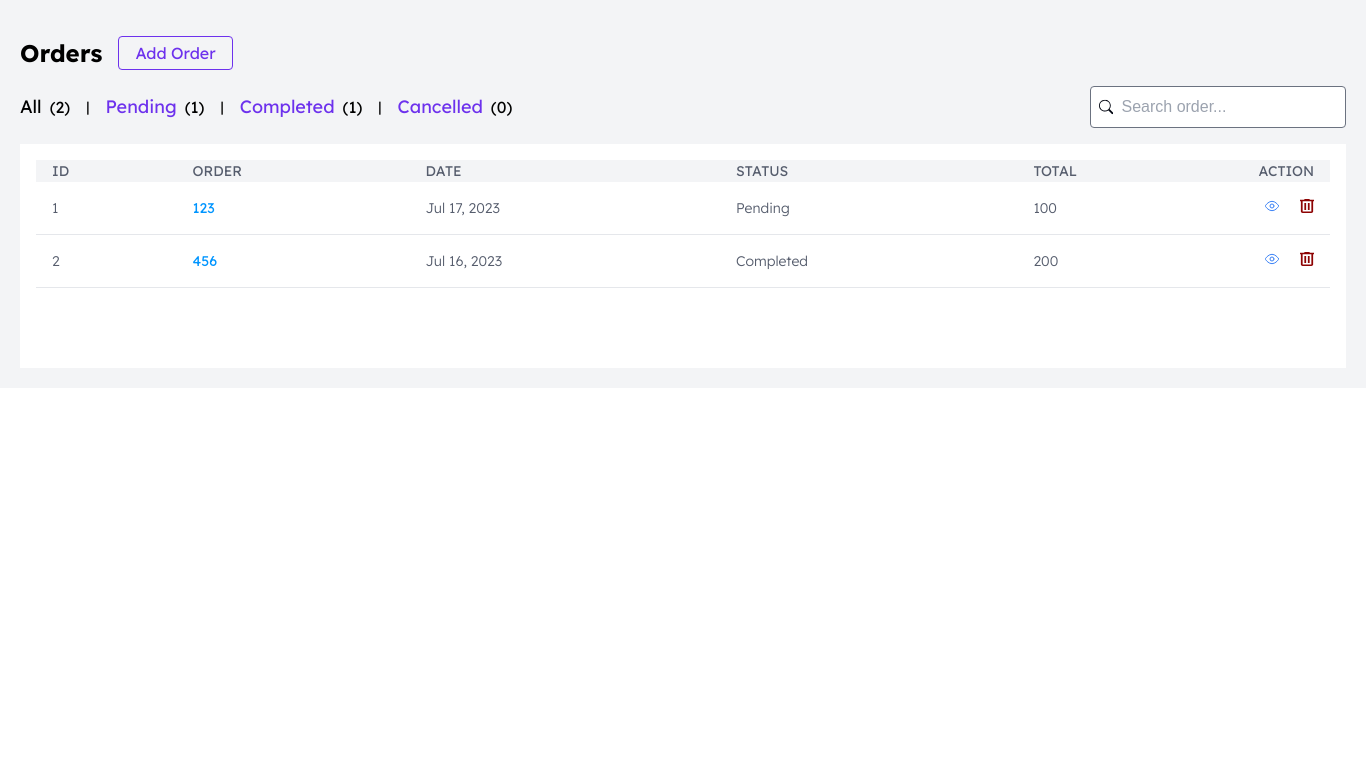
it: Orders Component › opens OrderDetailsModal when view button is clicked
The image size is (1366, 768).
Step 1. Click the 1st button named "view" → (1272, 206), box [1264, 198, 1280, 214]
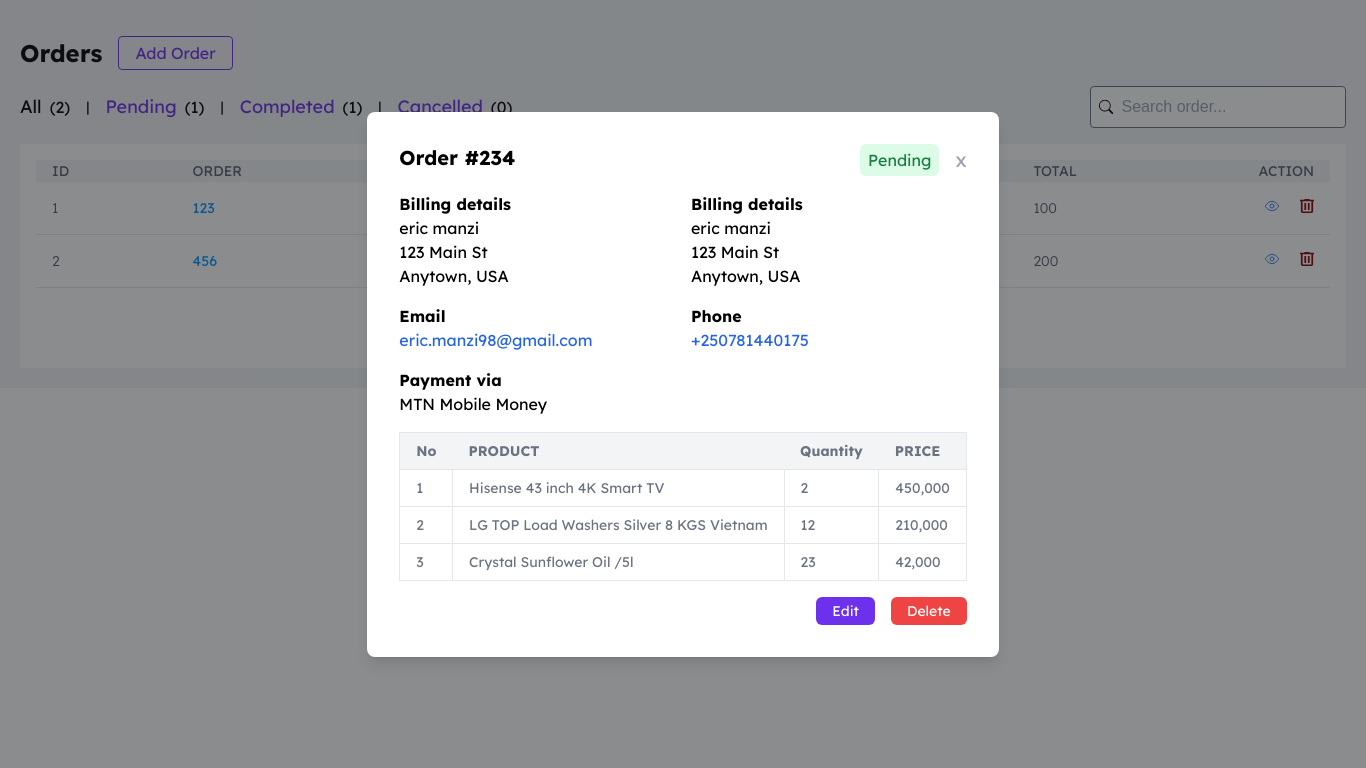
Expected: the heading "Order #234" is shown, [399, 144, 515, 172]
